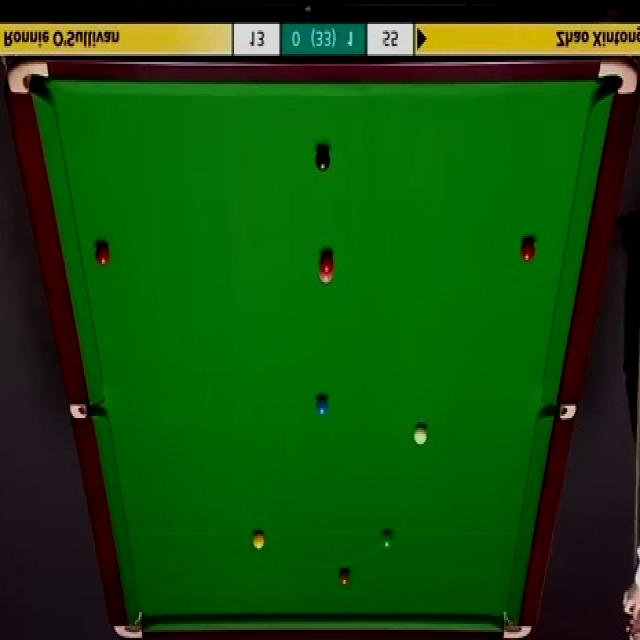black-ball: (314, 146, 332, 172)
blue-ball: (315, 397, 329, 417)
brown-ball: (338, 568, 351, 588)
green-ball: (380, 530, 393, 551)
pink-ball: (318, 270, 334, 284)
red-ball: (95, 242, 111, 268), (520, 239, 536, 264), (318, 252, 335, 273)
white-ball: (411, 422, 428, 446)
yellow-ball: (254, 529, 267, 549)
